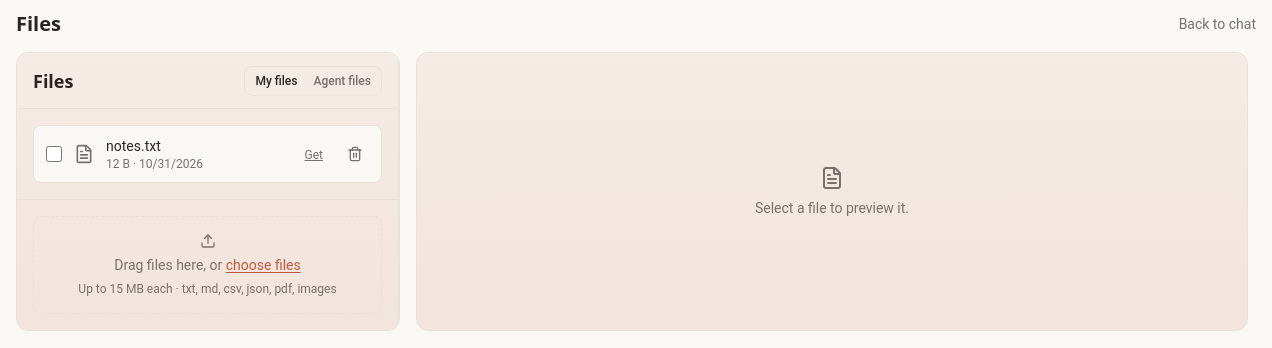
Test case: AssetsView (issue #197) › shows "(no extracted text)" when content is null and not pending/failed
The width and height of the screenshot is (1272, 348).
Click the button with test id "asset-preview-a1". click: (196, 154)
box: [106, 136, 286, 172]
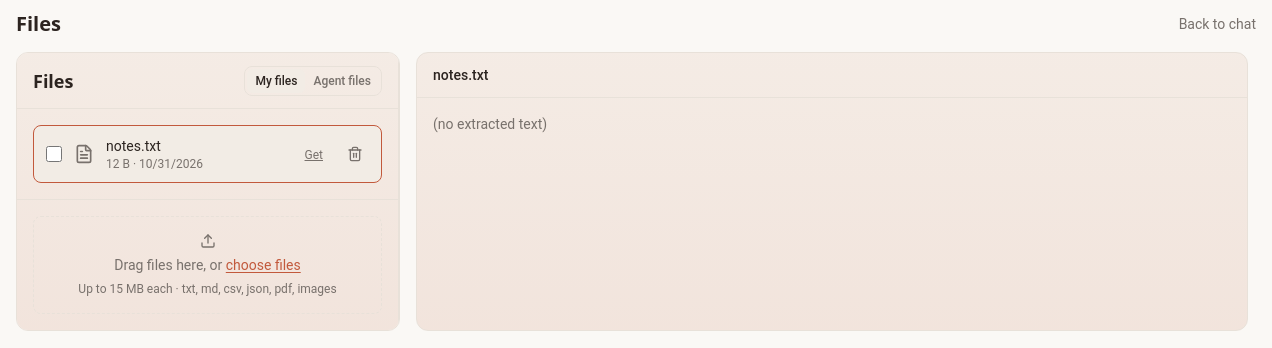
Check: the text "(no extracted text)" is shown, box [433, 116, 547, 132]
